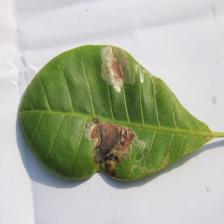leaf miner: (17, 44, 224, 182)
